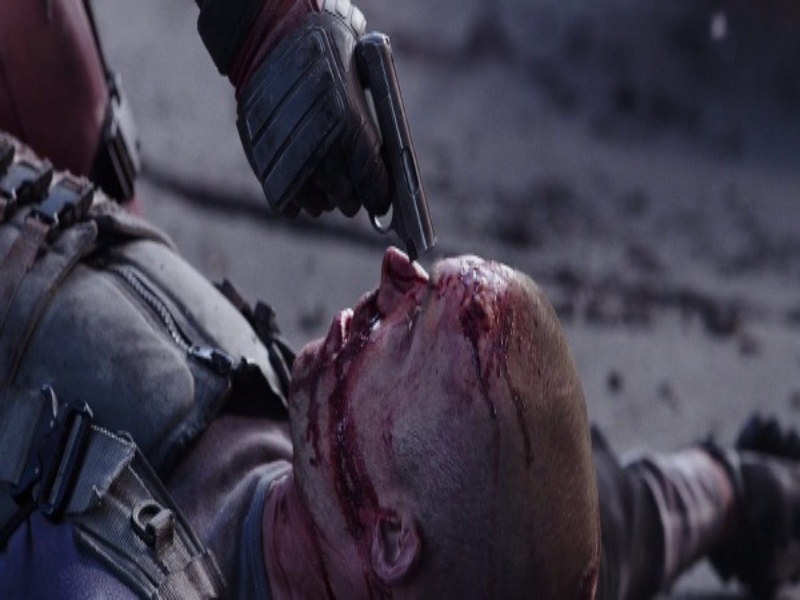person: (1, 136, 612, 594), (323, 35, 450, 250)
